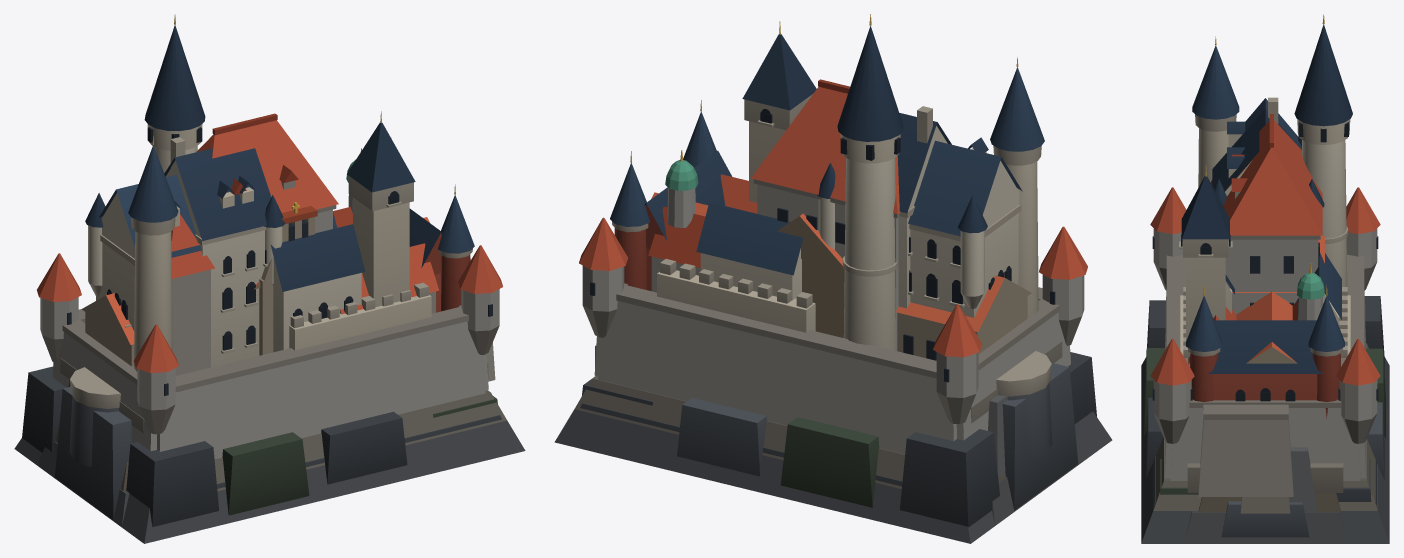
The model's file is alps_landmarks.glb.
The picture shows the model from 3 angles, left to right: view 1: azimuth 30°, elevation 25°; view 2: azimuth 150°, elevation 25°; view 3: azimuth 270°, elevation 25°; orthographic projection. The views are drawn at different scales.
Parts seen in each view (by area): view 1: NEUSCHWANSTEIN, HOHENSALZBURG, MONTSERRAT_MONASTERY; view 2: NEUSCHWANSTEIN, HOHENSALZBURG, MONTSERRAT_MONASTERY; view 3: HOHENSALZBURG, NEUSCHWANSTEIN, MONTSERRAT_MONASTERY.
Boxes of the visible parts, x1,y1,x2,y2 form: NEUSCHWANSTEIN: (22,14,501,526); HOHENSALZBURG: (14,113,525,543); MONTSERRAT_MONASTERY: (37,202,429,526); NEUSCHWANSTEIN: (580,14,1096,527); HOHENSALZBURG: (554,79,1112,543); MONTSERRAT_MONASTERY: (651,192,1087,525); HOHENSALZBURG: (1141,114,1389,543); NEUSCHWANSTEIN: (1144,14,1385,537); MONTSERRAT_MONASTERY: (1184,236,1346,543).
Bounding box in the file's own units: 9.88 × 10.5 × 5.76.
